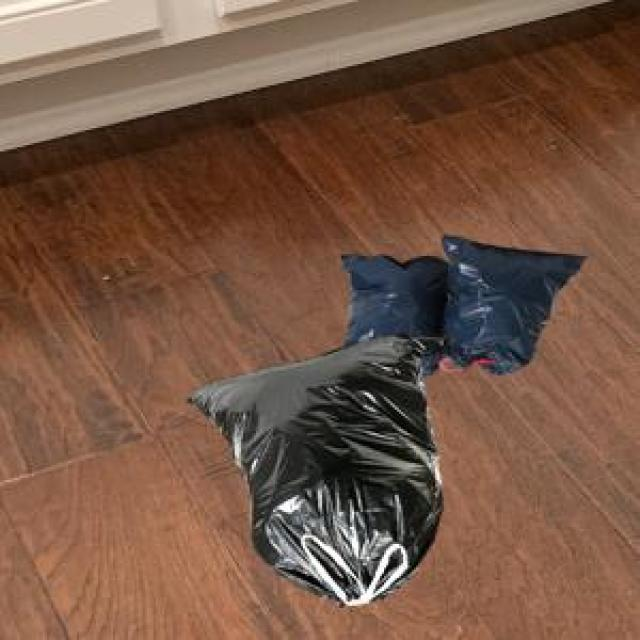Vinyl: (191, 256, 449, 604), (447, 239, 581, 369)
